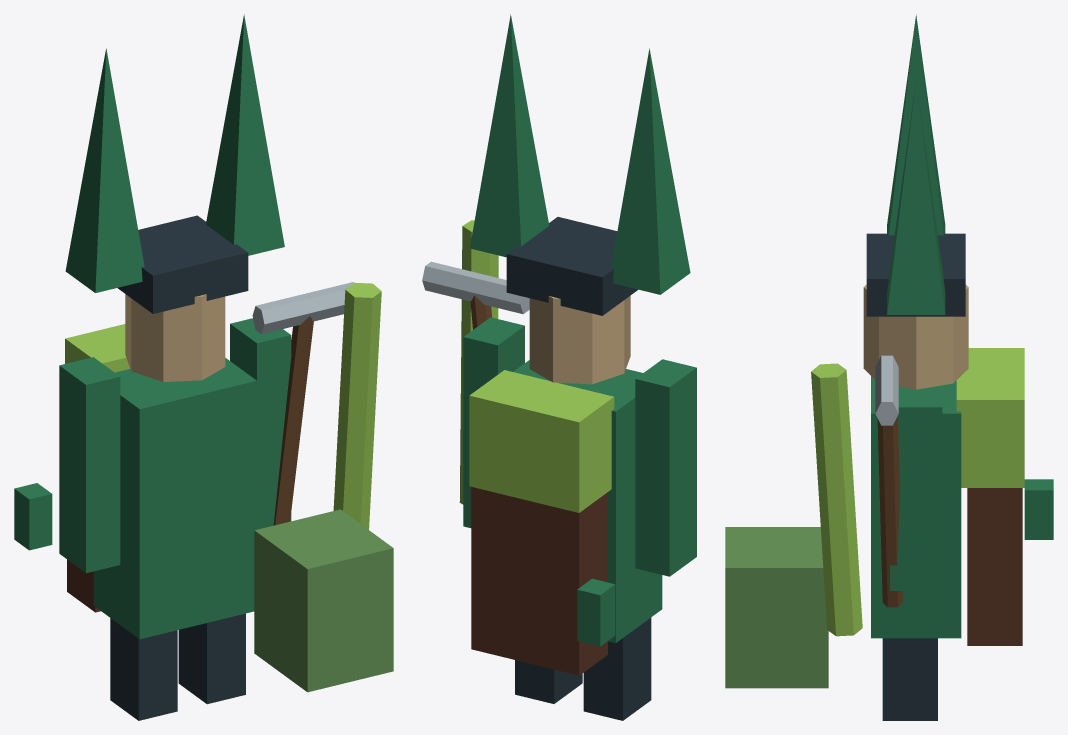
File: worker.obj
3 views of the same model, side by side, from view 1: azimuth 30°, elevation 25°; view 2: azimuth 150°, elevation 25°; view 3: azimuth 270°, elevation 25° (orthographic). The views are drawn at different scales.
Visible parts, largest first — view 1: worker; view 2: worker; view 3: worker.
Part boxes in pixels (x1,y1,x2,y2): worker: [14, 14, 393, 720]; worker: [422, 14, 696, 720]; worker: [725, 14, 1053, 720].
Size of the model in its own units: 0.935 by 2.21 by 1.01.
